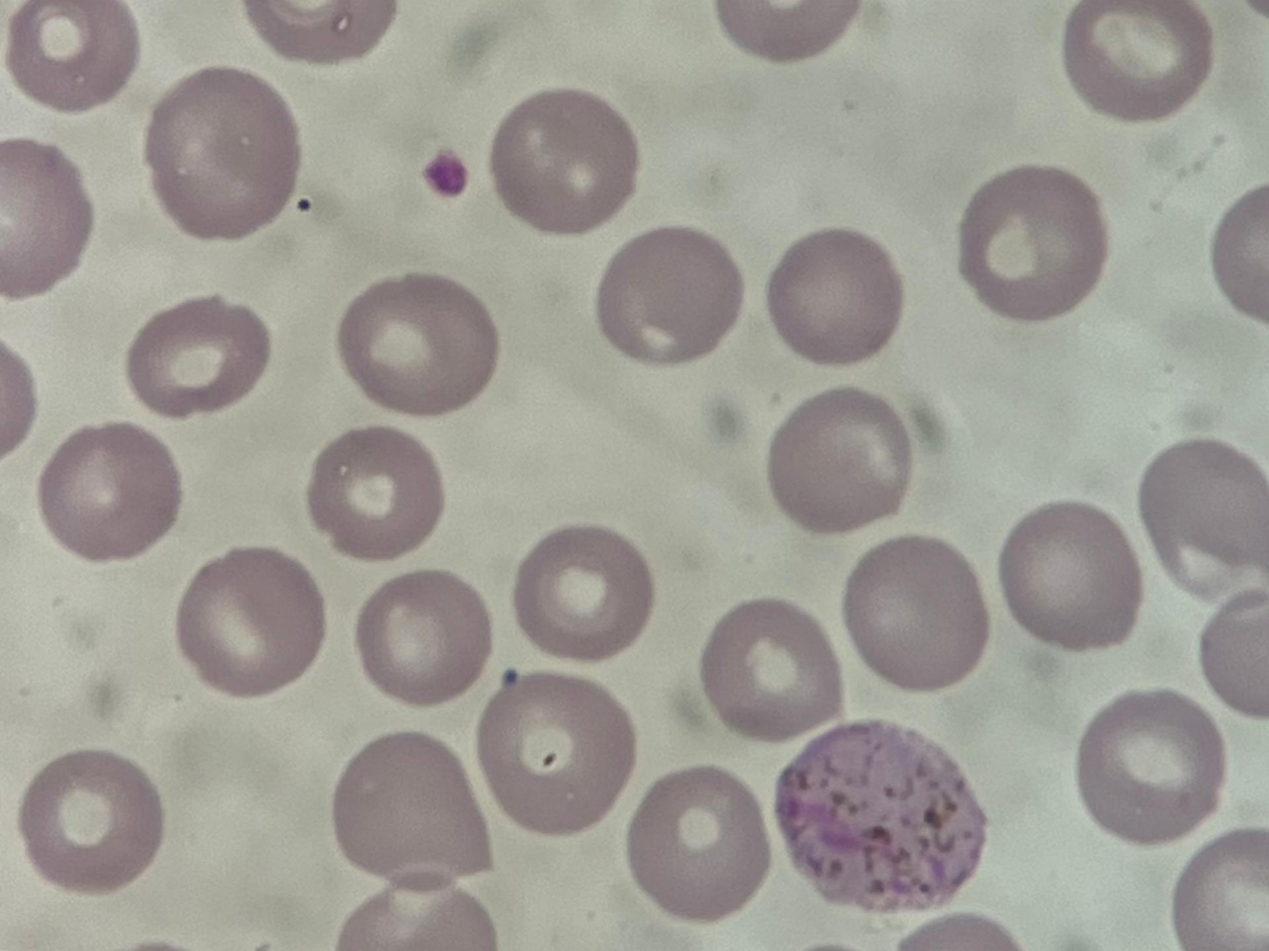Infected: (775, 719, 986, 913)
Uninfected: (145, 69, 299, 238), (330, 731, 494, 886), (476, 676, 635, 835), (339, 274, 498, 414), (848, 538, 993, 690), (176, 549, 325, 696), (957, 169, 1104, 318), (1075, 693, 1221, 843), (625, 770, 768, 921), (1138, 439, 1269, 599), (999, 503, 1139, 651), (20, 748, 163, 891), (489, 91, 635, 231), (769, 384, 906, 533), (698, 600, 841, 741), (599, 225, 743, 364), (38, 424, 180, 560), (513, 526, 654, 660), (307, 427, 446, 559), (356, 569, 492, 703), (767, 229, 902, 361), (128, 297, 270, 420), (1064, 2, 1211, 120), (3, 141, 94, 297), (8, 1, 135, 110)
